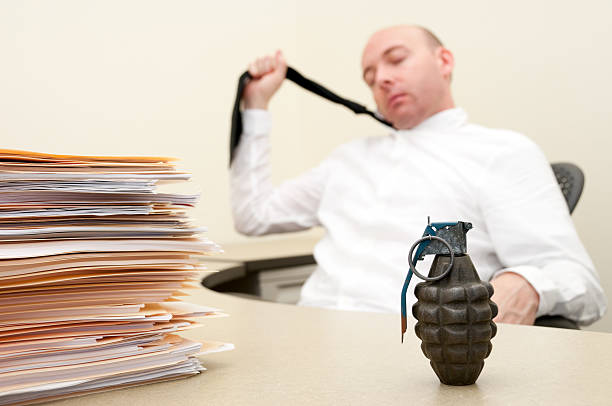e1: (404, 212, 497, 388)
